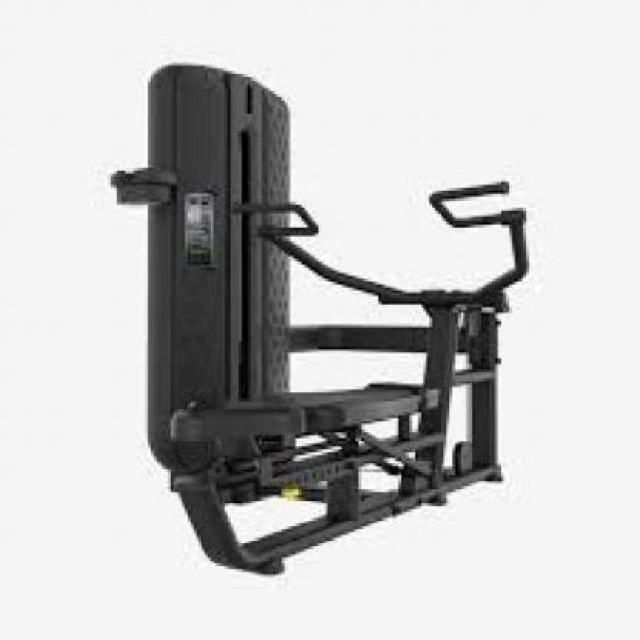Chest Press machine: (92, 51, 538, 577)
